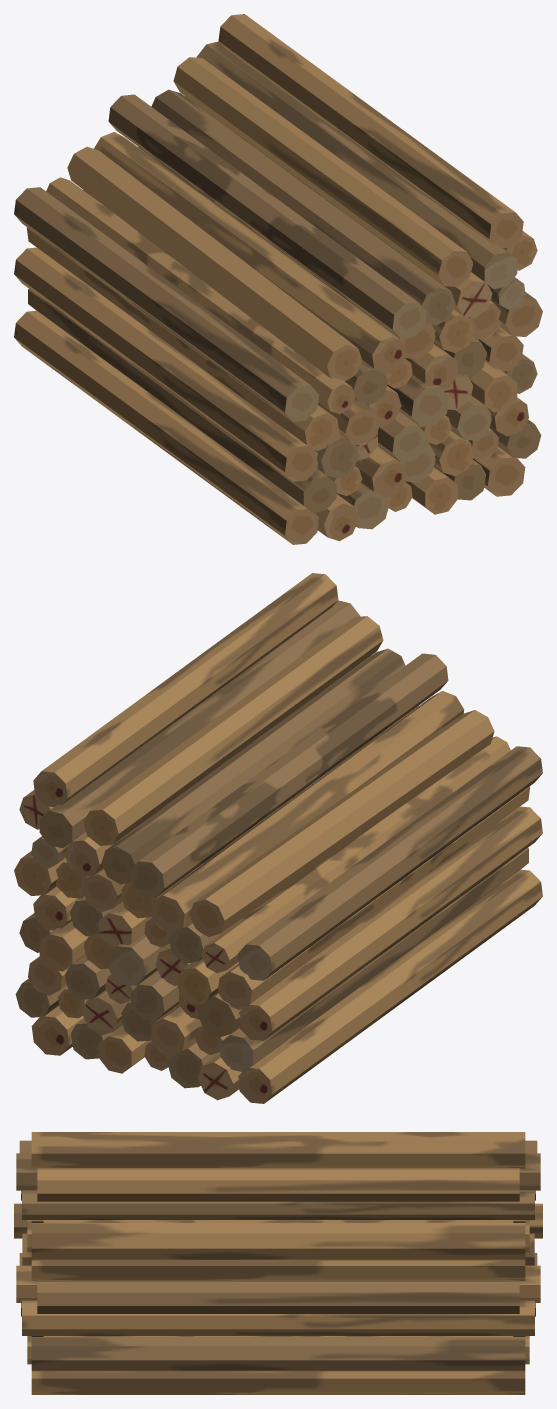
The model's file is SM_Prop_LogPile_Large_Slope_01.fbx.
3 views of the same model, one above another, from view 1: azimuth 30°, elevation 25°; view 2: azimuth 150°, elevation 25°; view 3: azimuth 270°, elevation 25° (orthographic). The views are drawn at different scales.
Parts seen in each view (by area): view 1: SM_Prop_LogPile_Large_Slope_01; view 2: SM_Prop_LogPile_Large_Slope_01; view 3: SM_Prop_LogPile_Large_Slope_01.
Part boxes in pixels (x1=…): SM_Prop_LogPile_Large_Slope_01: x1=14, y1=14, x2=542, y2=544; SM_Prop_LogPile_Large_Slope_01: x1=14, y1=573, x2=542, y2=1103; SM_Prop_LogPile_Large_Slope_01: x1=14, y1=1132, x2=542, y2=1394.
Size of the model in its own units: 522 by 549 by 1018.
